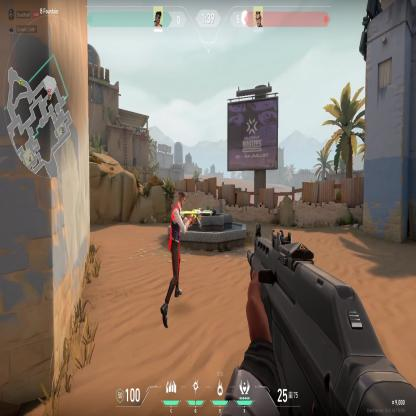enemy: (160, 189, 189, 333)
